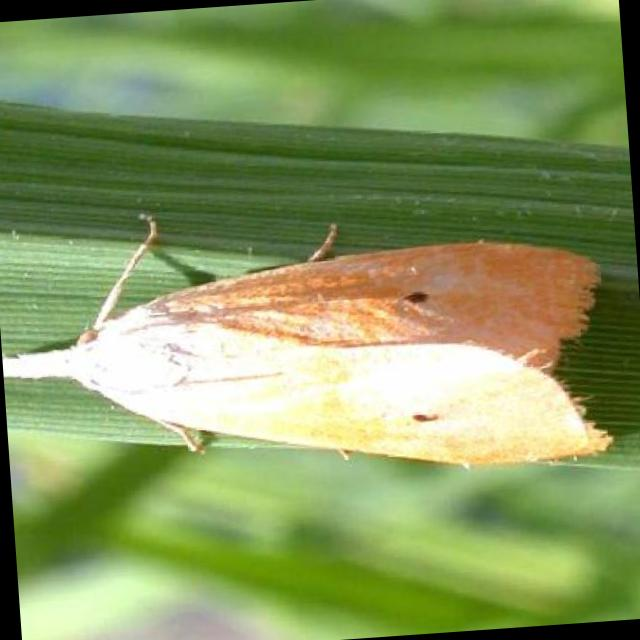stem-borer: (0, 223, 621, 504)
